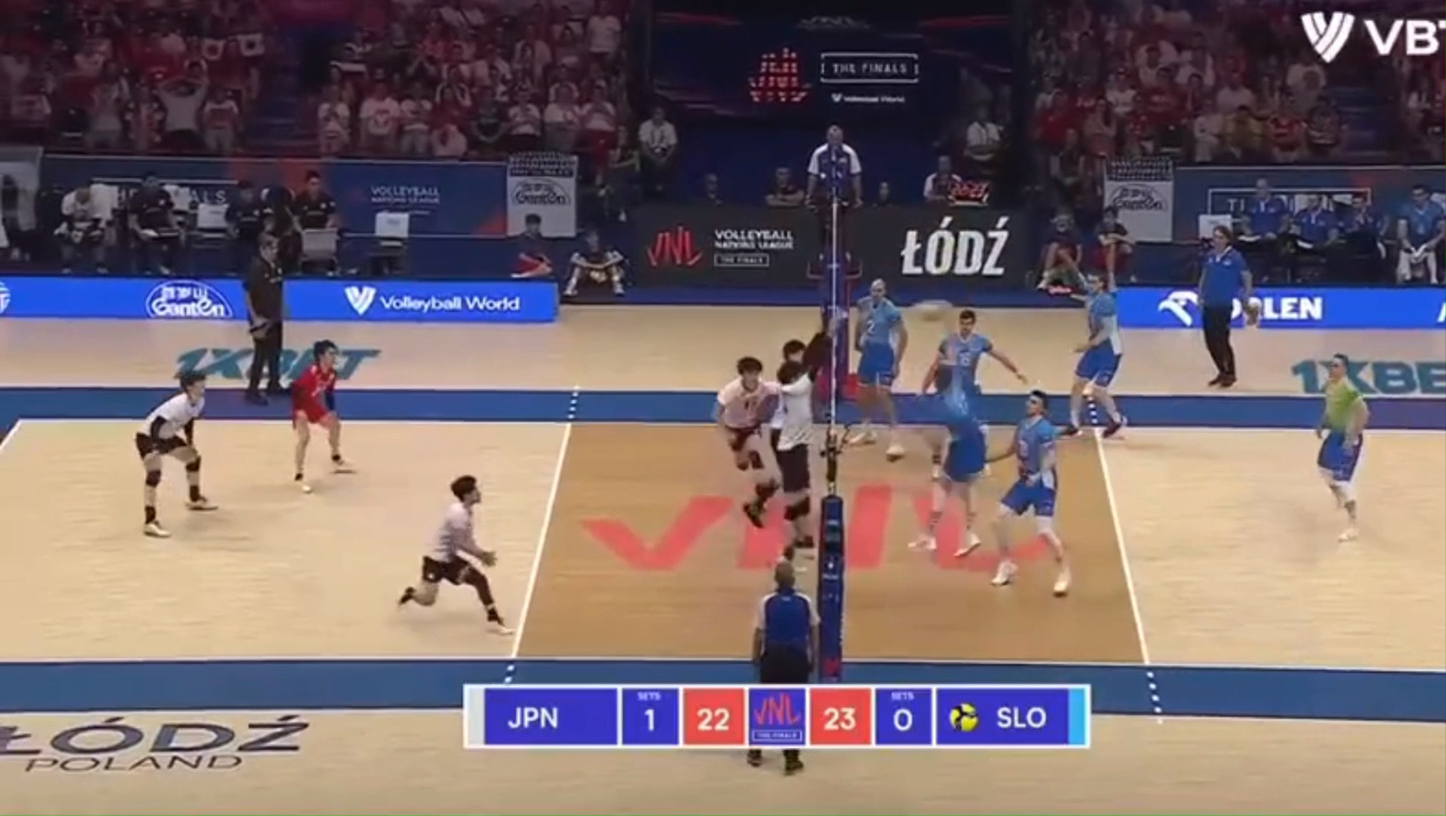player: (991, 389, 1071, 596), (910, 360, 986, 556), (850, 280, 907, 460), (1063, 273, 1123, 437), (1316, 354, 1368, 540), (921, 309, 1027, 396), (923, 428, 947, 476)
player 1: (397, 475, 511, 634), (770, 317, 837, 559), (134, 372, 215, 537), (715, 357, 778, 527), (291, 340, 350, 490), (769, 402, 785, 447), (782, 339, 807, 362)
referee: (1197, 227, 1253, 388), (807, 125, 861, 282), (752, 559, 818, 684), (243, 232, 285, 402), (783, 749, 803, 773)
